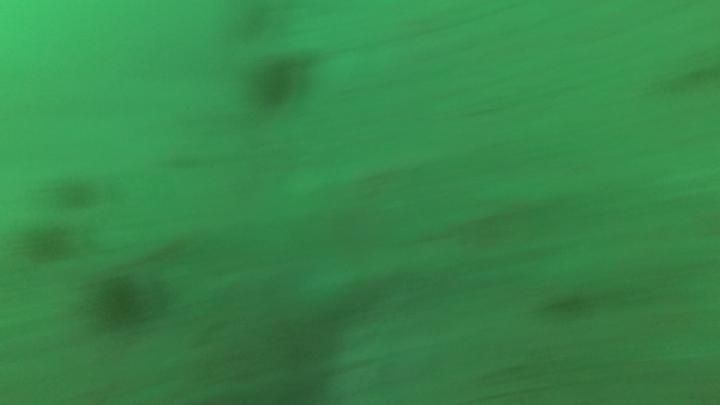echinus: (86, 269, 152, 334), (245, 52, 310, 115), (19, 221, 76, 266), (47, 172, 101, 213)
